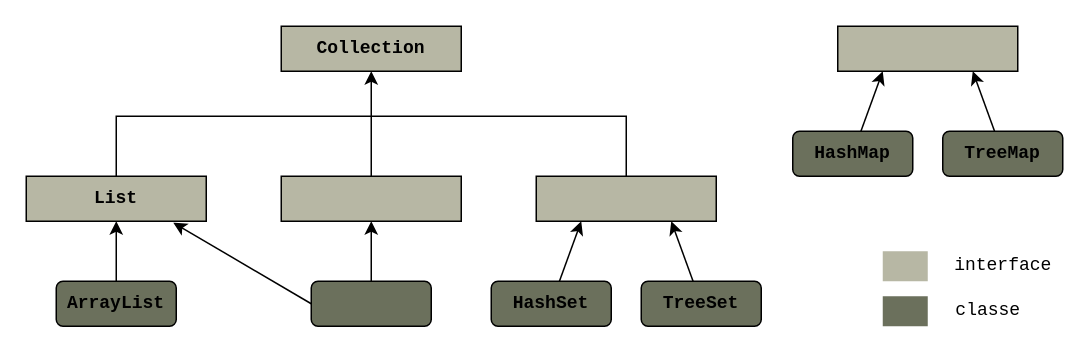
Some shapes in this 1089 by 353 pixel diagram are drawn without their labels. Each missing label, with the box of its shape:
LinkedList: (310, 280, 431, 326)
Map: (836, 25, 1018, 71)
Queue: (280, 175, 461, 221)
Set: (535, 175, 716, 221)
